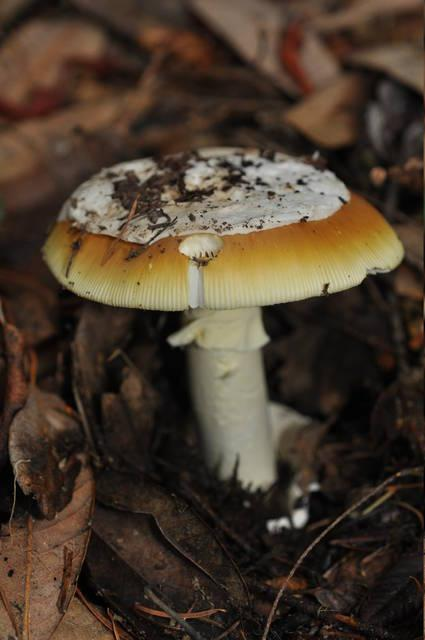Edible Mushroom: (40, 144, 405, 495)
